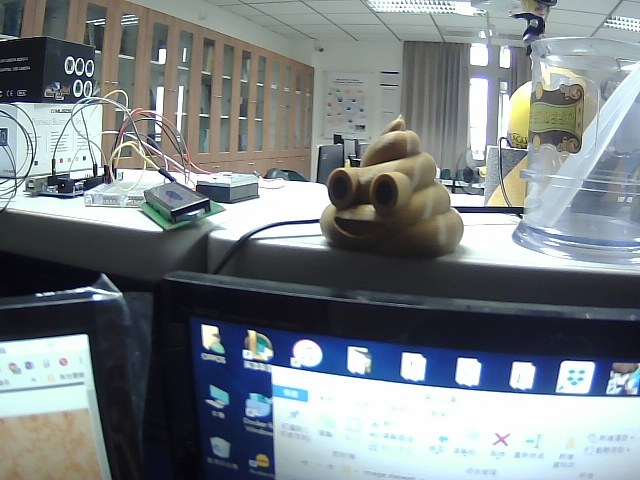shit: (309, 108, 478, 261)
